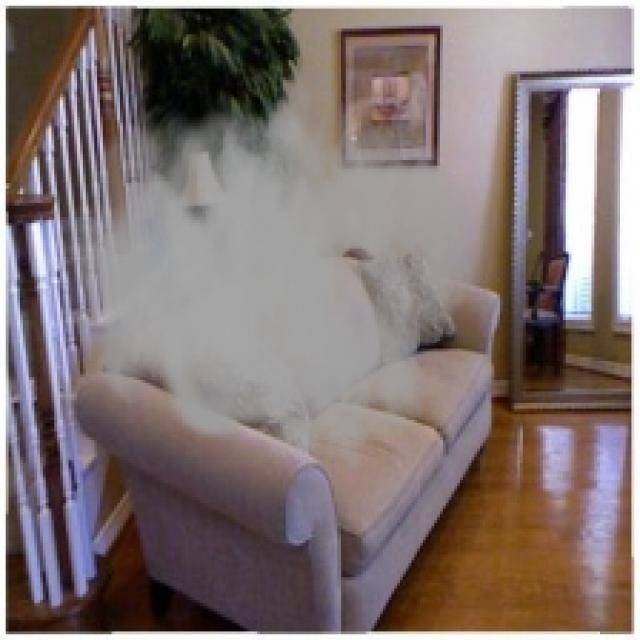smoke: (69, 54, 474, 474)
